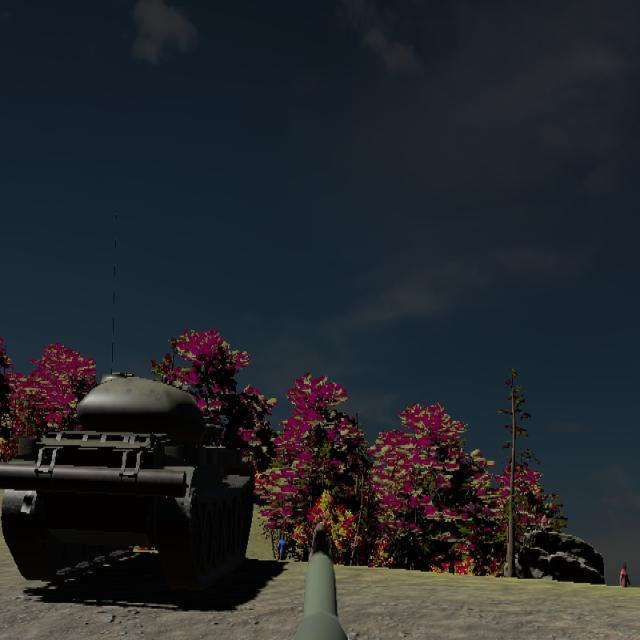Tank: (1, 369, 254, 589)
